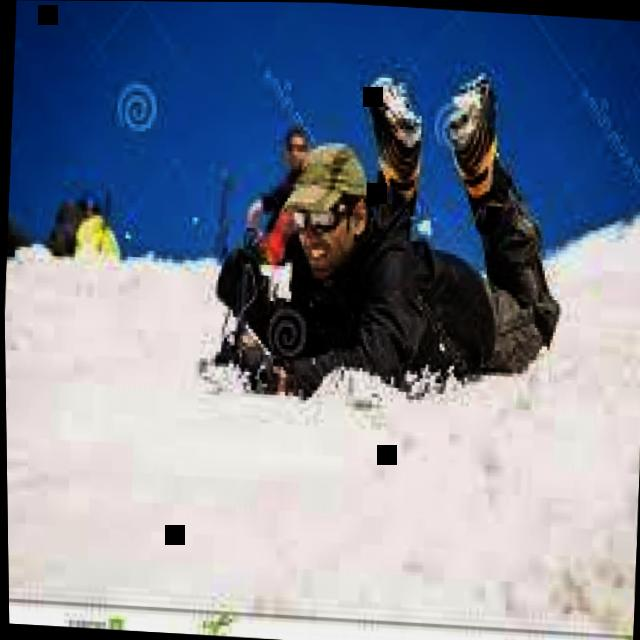Fall-Detected: (200, 35, 570, 429)
